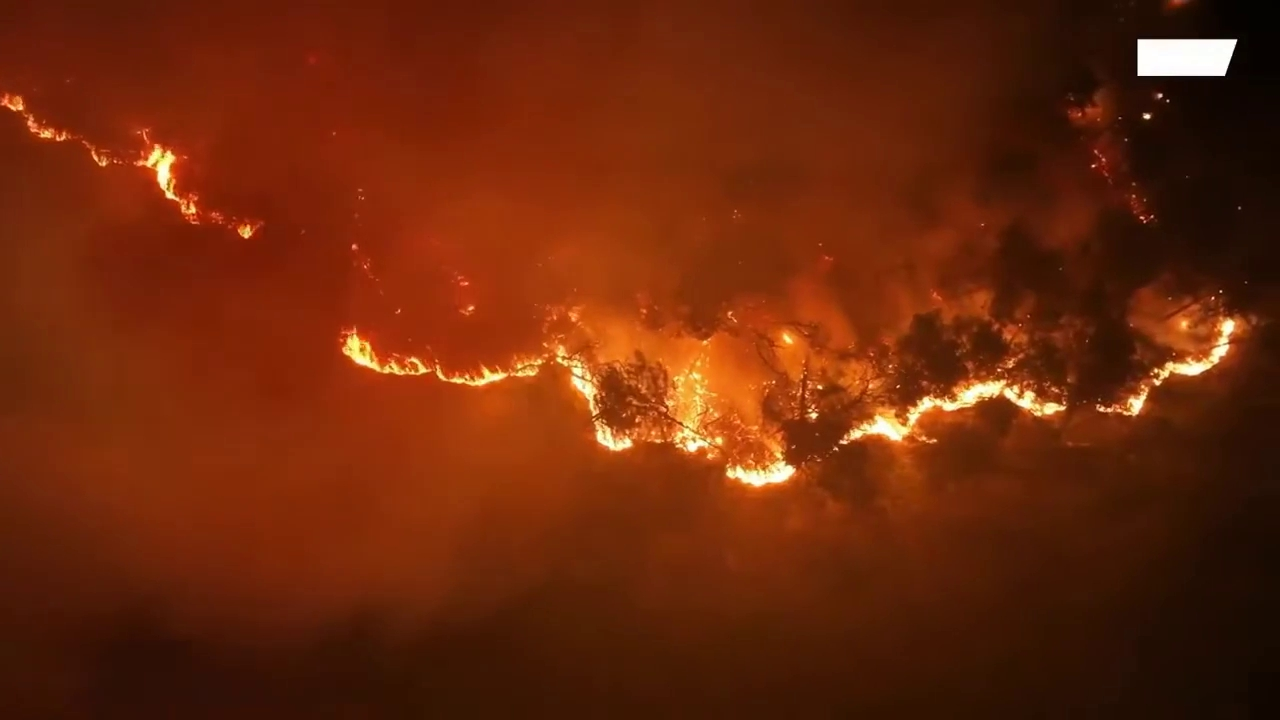forest_fire: (0, 93, 262, 238), (340, 329, 653, 450), (840, 379, 1067, 443), (1097, 318, 1237, 414), (657, 360, 740, 454), (727, 449, 795, 485)
